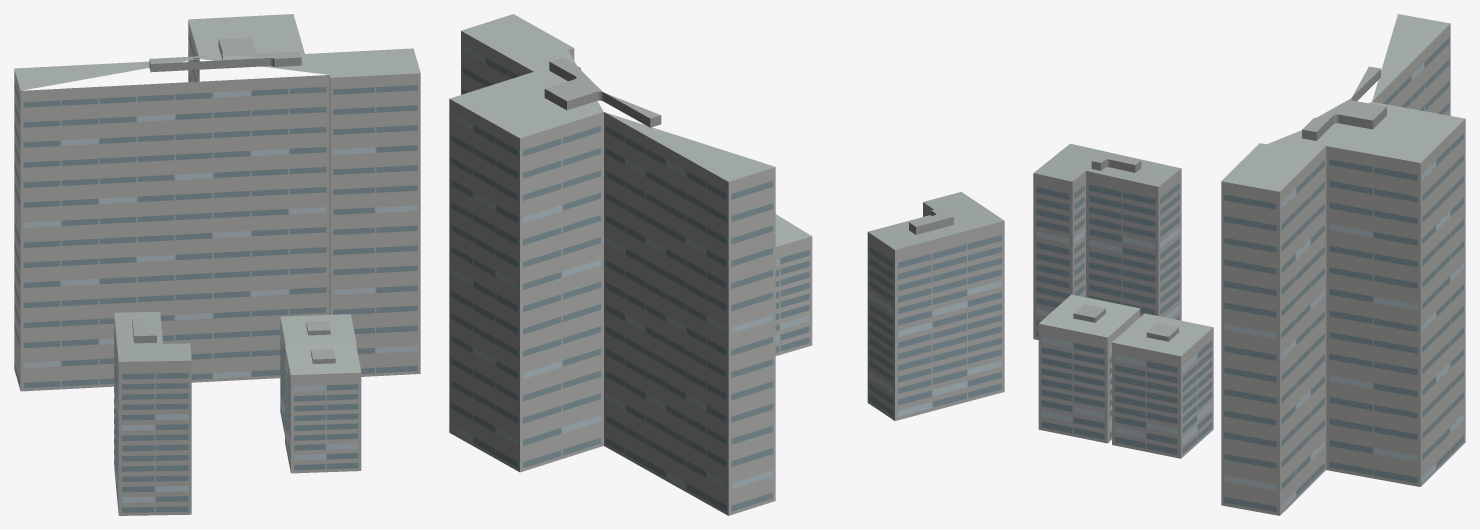
File: apt-a13010002.glb
The picture shows the model from 3 angles, left to right: view 1: azimuth 30°, elevation 25°; view 2: azimuth 150°, elevation 25°; view 3: azimuth 270°, elevation 25°; orthographic projection. The views are drawn at different scales.
Parts seen in each view (by area): view 1: apt-a13010002; view 2: apt-a13010002; view 3: apt-a13010002.
Part boxes in pixels (left/top/right/bottom): apt-a13010002: left=14, top=14, right=420, bottom=515; apt-a13010002: left=449, top=14, right=1004, bottom=515; apt-a13010002: left=1033, top=14, right=1465, bottom=515.
Size of the model in its own units: 120 by 90 by 106.
